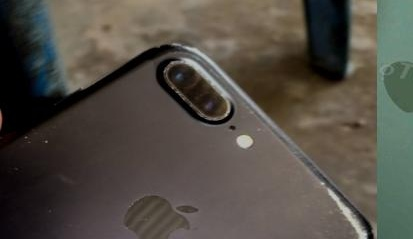scratch: (154, 55, 240, 126), (314, 187, 376, 239), (164, 38, 208, 59), (236, 100, 257, 115), (254, 124, 268, 134), (137, 194, 148, 203), (319, 175, 327, 187), (129, 200, 134, 210), (29, 127, 36, 134), (50, 124, 57, 130), (124, 225, 130, 232), (154, 45, 159, 50)
